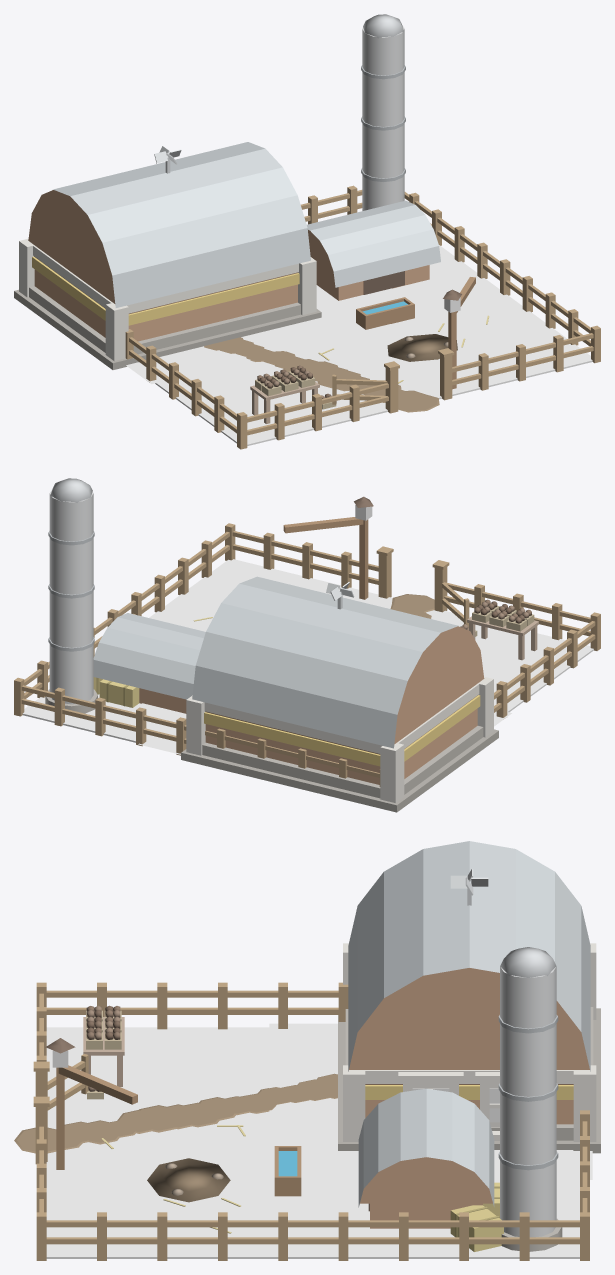
The model's file is pig_pen_2.glb.
3 renders of one model, top to bottom at view 1: azimuth 30°, elevation 25°; view 2: azimuth 150°, elevation 25°; view 3: azimuth 270°, elevation 25°, orthographic. The views are drawn at different scales.
Parts seen in each view (by area): view 1: body4, pig_pen_2; view 2: body4, pig_pen_2, body3, body; view 3: body4, pig_pen_2, body3.
Boxes of the visible parts, x1,y1,x2,y2 form: body4: [14, 14, 600, 449]; pig_pen_2: [126, 264, 458, 384]; body4: [14, 478, 600, 812]; pig_pen_2: [98, 694, 511, 754]; body3: [460, 599, 499, 636]; body: [506, 608, 534, 631]; body4: [14, 841, 600, 1260]; pig_pen_2: [269, 1023, 592, 1237]; body3: [86, 1027, 121, 1099].
Bounding box in the file's own units: 2.75 × 1.57 × 2.8.
